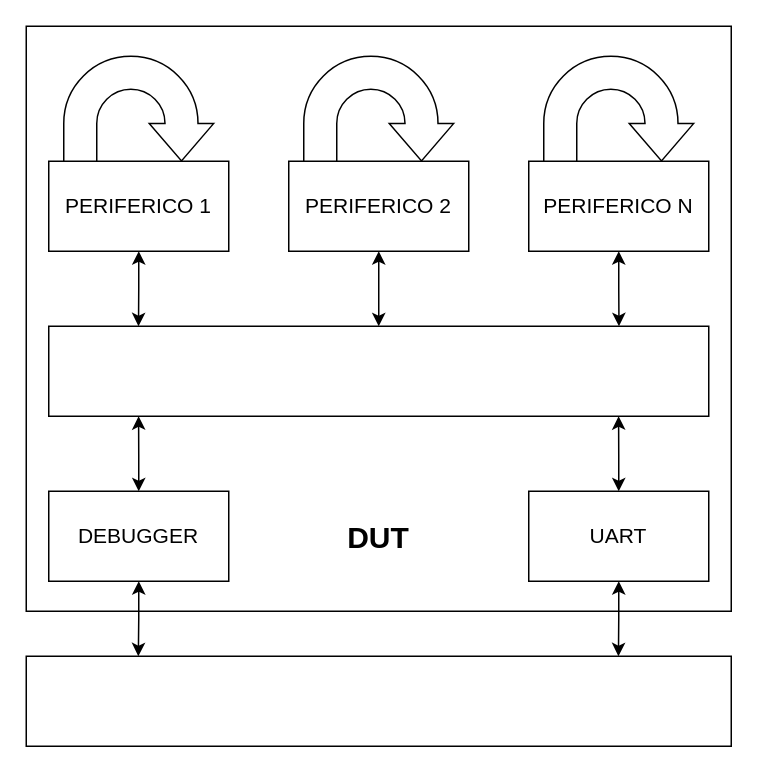
Some shapes in this 758 by 773 pixel diagram are drawn without their labels. The box of each missing label's shape, as (x1, y1, x2, y2) in pixels:
CCI: (25, 655, 731, 746)
FIRMWARE: (47, 325, 709, 416)
